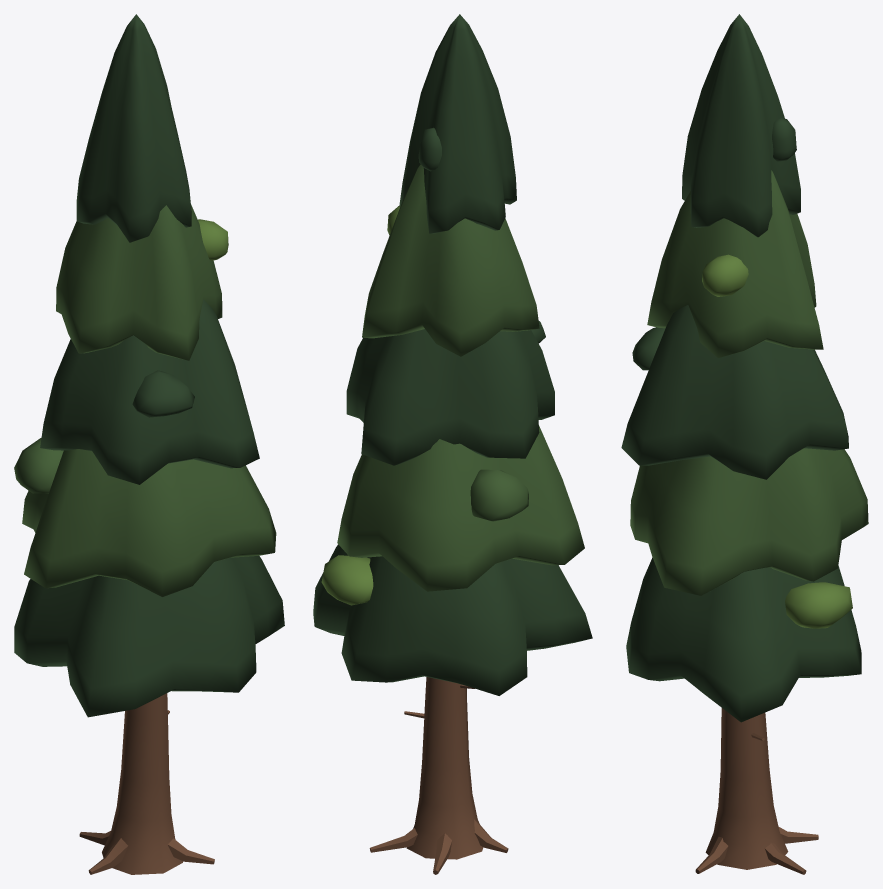
File: cedar_tree.glb
3 renders of one model, left to right at view 1: azimuth 30°, elevation 25°; view 2: azimuth 150°, elevation 25°; view 3: azimuth 270°, elevation 25°, orthographic. The views are drawn at different scales.
Visible parts, largest first — view 1: foliage, trunk; view 2: foliage, trunk; view 3: foliage, trunk.
Part boxes in pixels (x1,y1,x2,y2): foliage: (14, 14, 284, 717); trunk: (79, 693, 214, 874); foliage: (313, 14, 592, 695); trunk: (369, 677, 508, 874); foliage: (621, 14, 868, 722); trunk: (695, 708, 818, 874).
Size of what is drawn, in the model's own units: 5.11 by 16 by 4.3.
